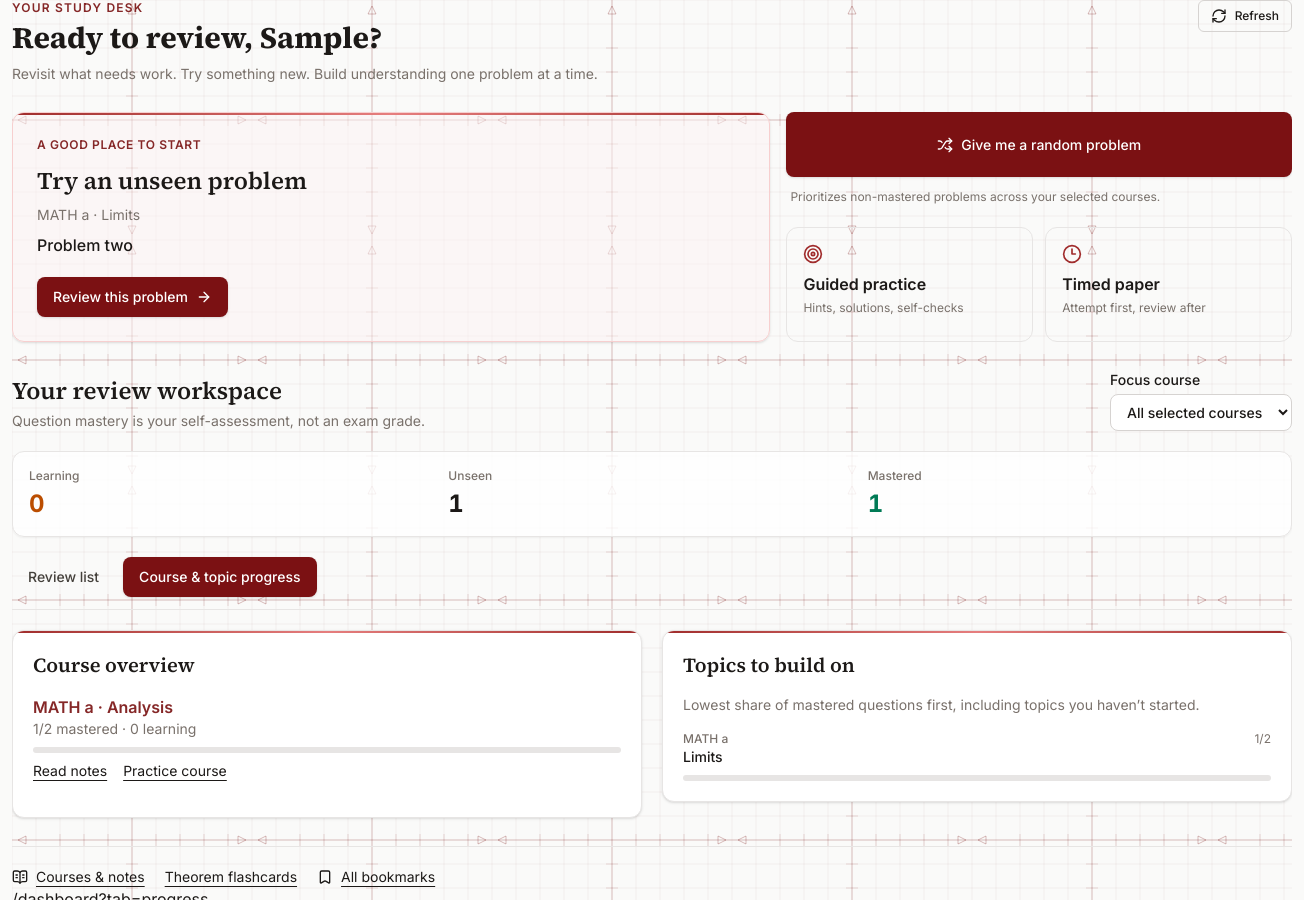
Test: uses current mastery overlays for progress and random priority
Click the button "Give me a random problem" at (1039, 145), box [786,112,1292,177]
(page scrolled)
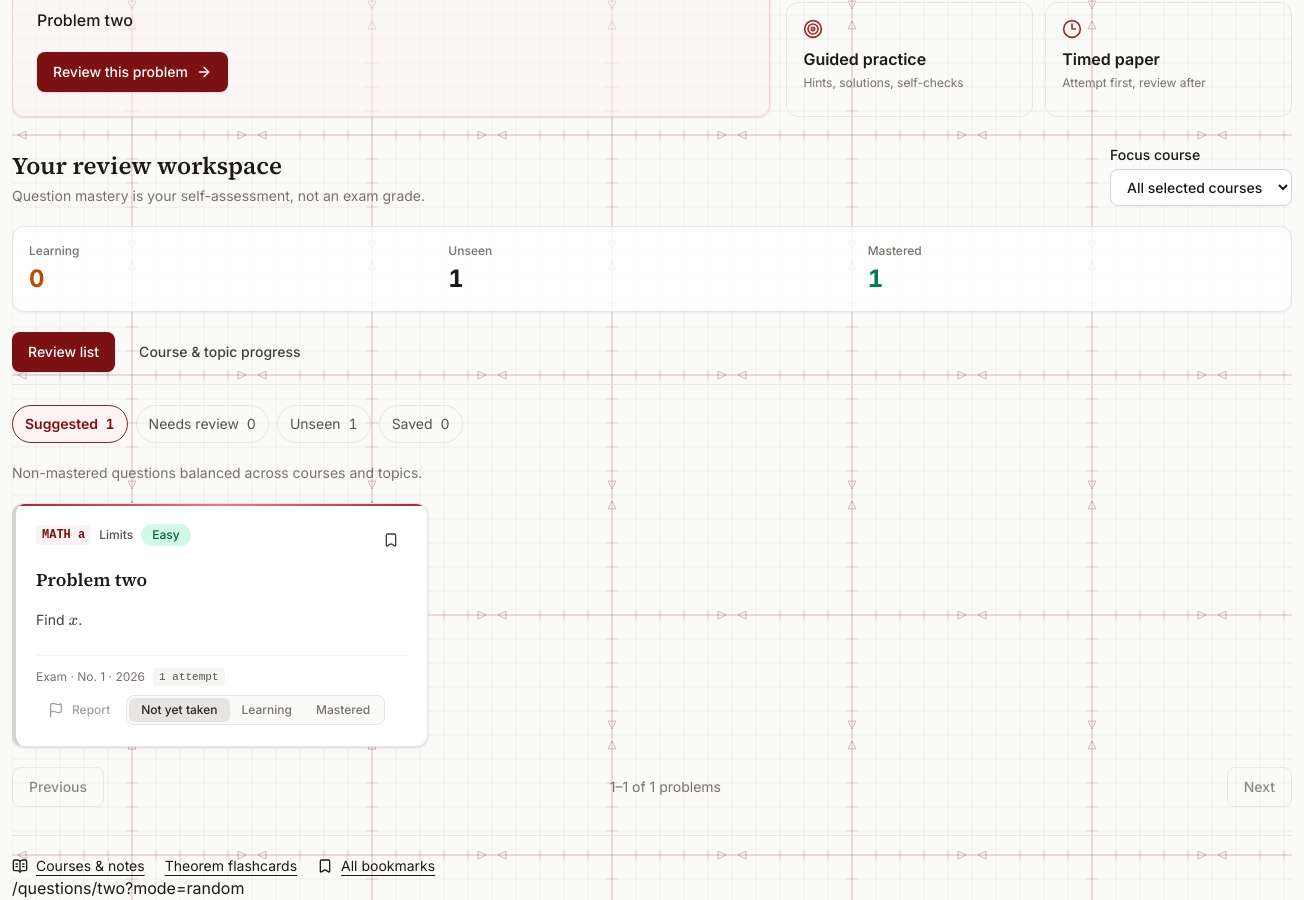
Check: the text named "Location" reads "/questions/two?mode=random", box [12,878,244,898]
